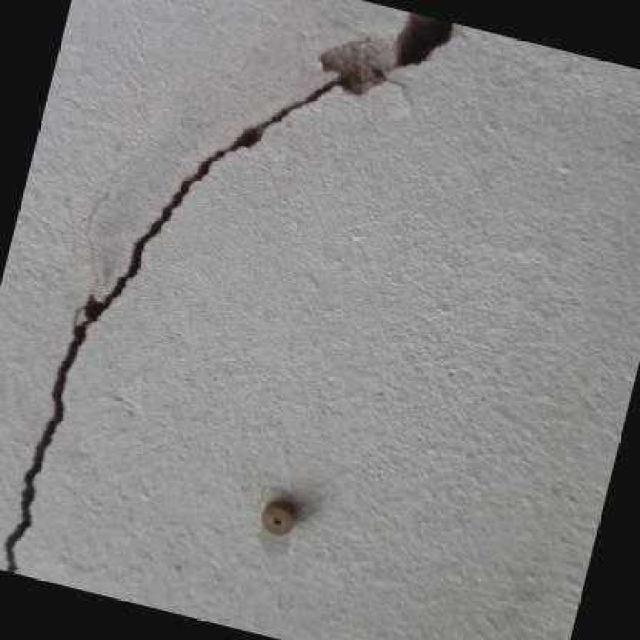D00: (0, 12, 458, 575)
